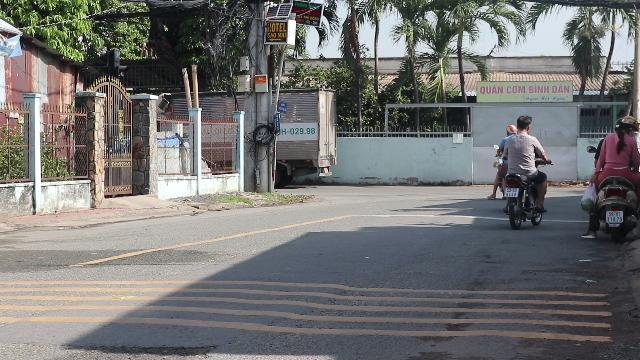helmet: (618, 115, 638, 133)
licenseplate: (606, 210, 622, 222), (505, 188, 519, 196)
motorcyclist: (579, 114, 639, 242), (491, 114, 549, 228)
nohelmet: (514, 114, 532, 134)
